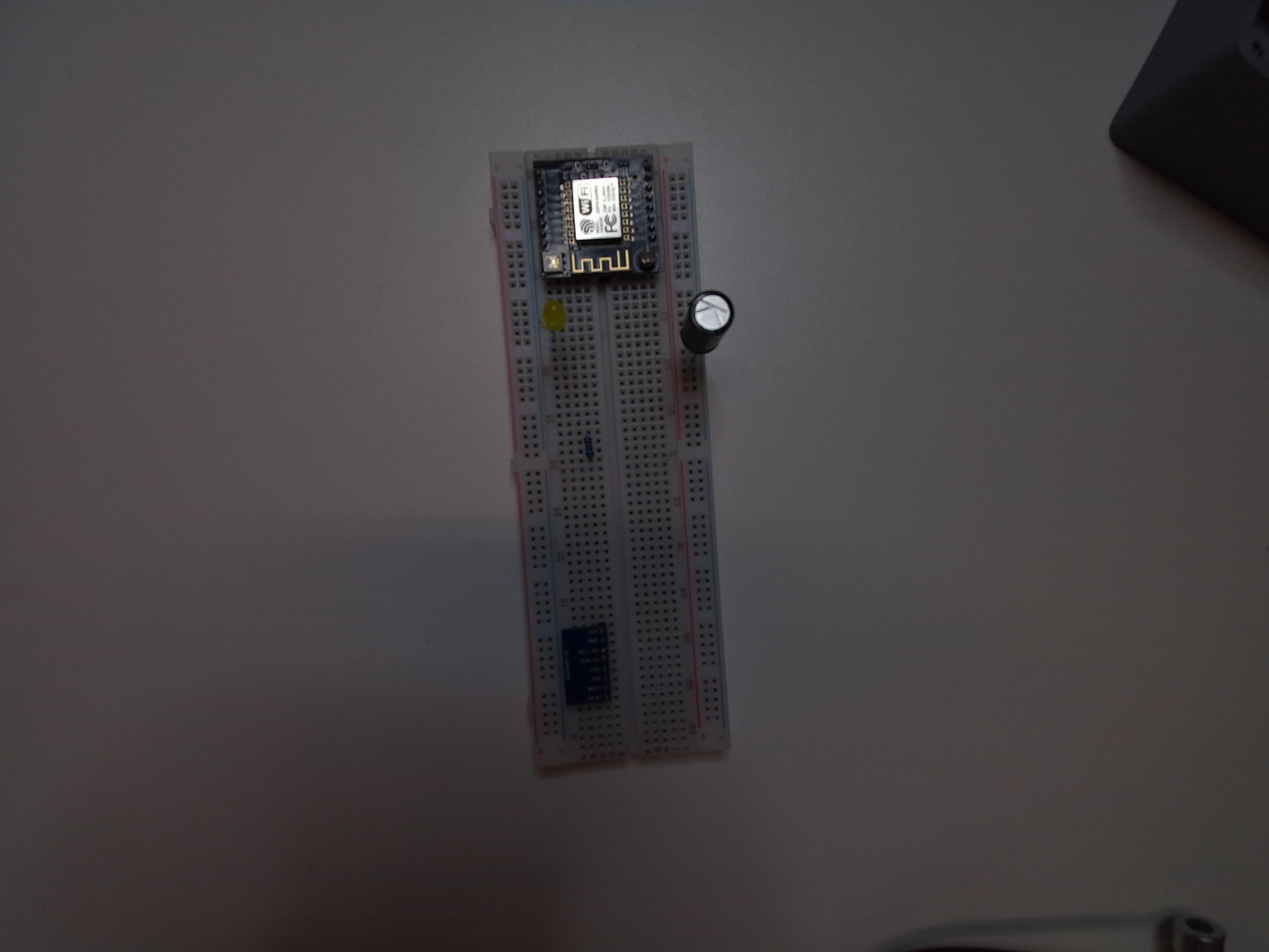base: (486, 140, 734, 776)
blue-board: (555, 619, 620, 713)
capacitor: (674, 285, 738, 362)
esp: (531, 157, 666, 292)
resistor-small: (579, 434, 595, 466)
yellow-led: (539, 298, 568, 335)
